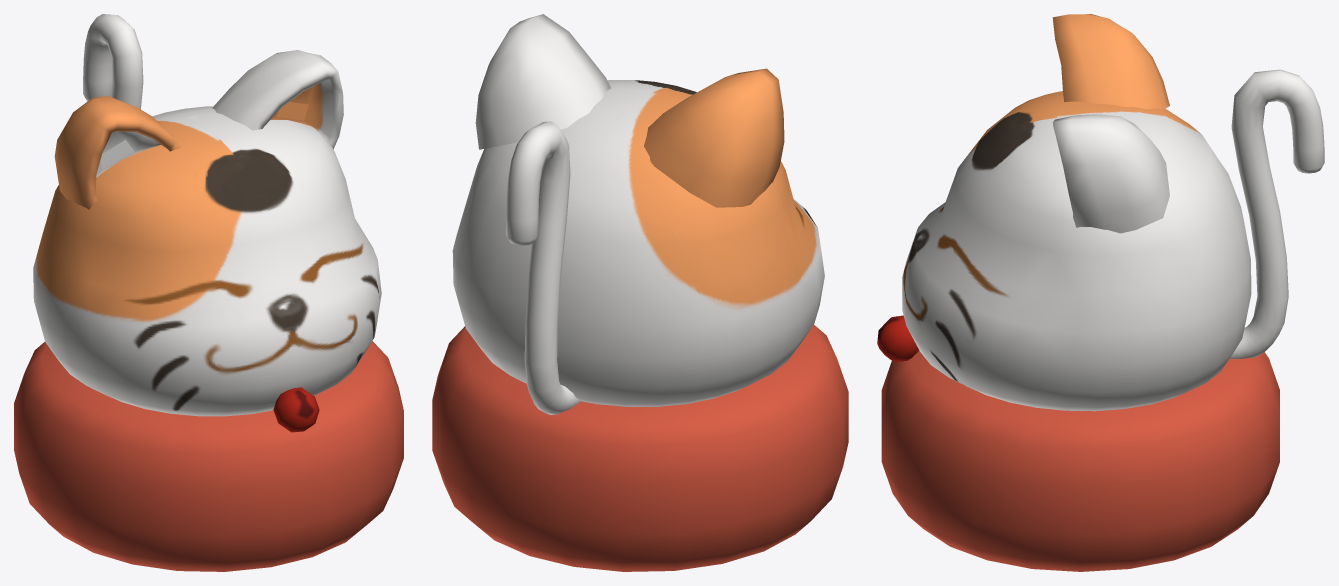
File: mao-u.FBX
3 views of the same model, side by side, from view 1: azimuth 30°, elevation 25°; view 2: azimuth 150°, elevation 25°; view 3: azimuth 270°, elevation 25° (orthographic). The views are drawn at different scales.
Visible parts, largest first — view 1: mao_Cylinder001; view 2: mao_Cylinder001; view 3: mao_Cylinder001.
Boxes of the visible parts, bbox=[...] form: mao_Cylinder001: bbox=[14, 14, 403, 571]; mao_Cylinder001: bbox=[432, 14, 848, 571]; mao_Cylinder001: bbox=[877, 14, 1324, 571].
Bounding box in the file's own units: 11.81 × 14 × 13.14.
Materials: 1 (1 with a texture image).
